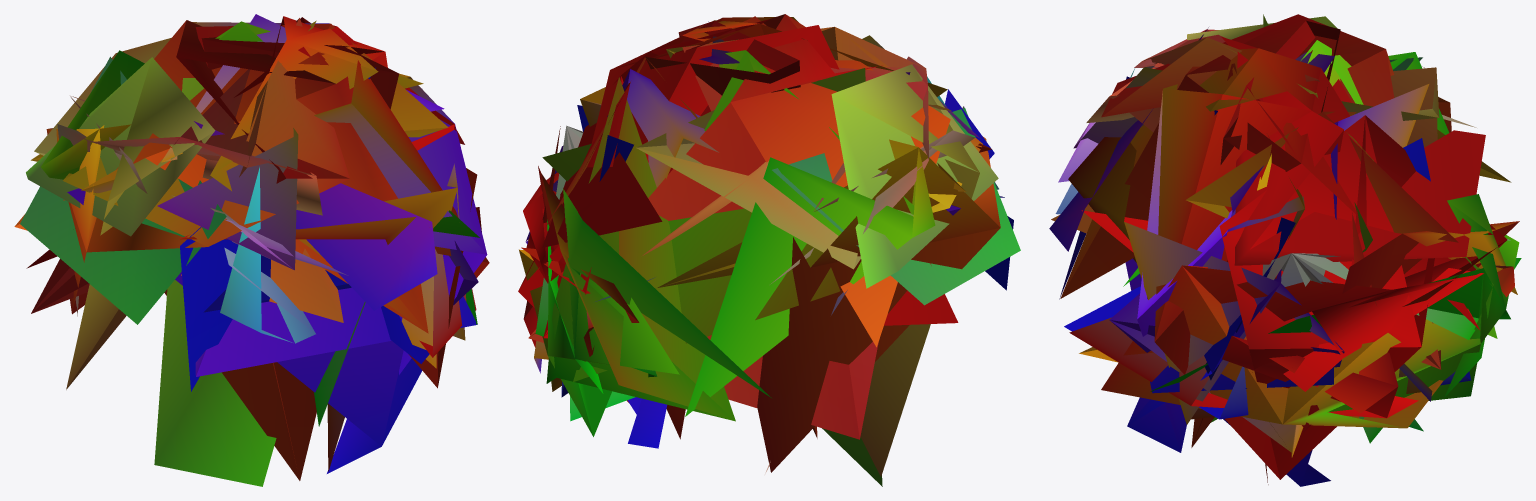
Rendered from zeometry-fragments-ruins-shard-cluster_v11.glb.
3 views of the same model, side by side, from view 1: azimuth 30°, elevation 25°; view 2: azimuth 150°, elevation 25°; view 3: azimuth 270°, elevation 25° (orthographic). The views are drawn at different scales.
Visible parts, largest first — view 1: Shard Cluster_v11; view 2: Shard Cluster_v11; view 3: Shard Cluster_v11.
Boxes of the visible parts, box(x1,y1,x2,y2) form: Shard Cluster_v11: box(14, 14, 489, 486); Shard Cluster_v11: box(518, 14, 1020, 486); Shard Cluster_v11: box(1049, 14, 1521, 486).
Bounding box in the file's own units: 0.4947 × 0.4798 × 0.5.
